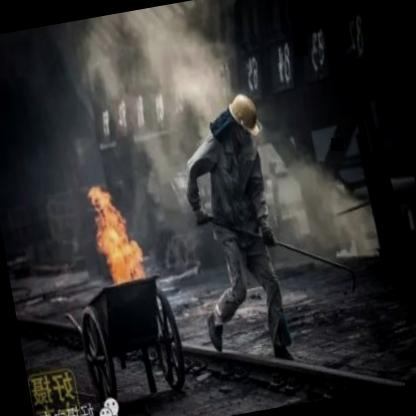helmet: (223, 85, 264, 140)
